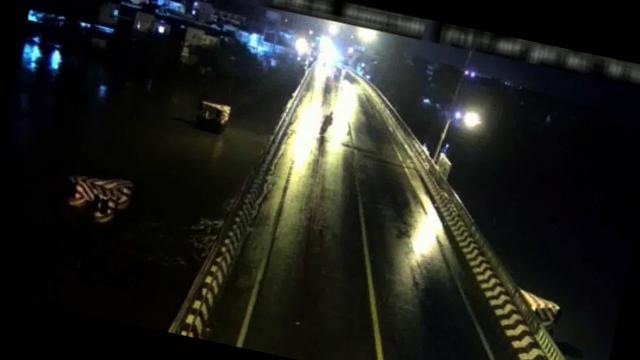Bike: (318, 108, 336, 137)
